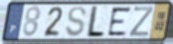2: (43, 6, 64, 38)
8: (22, 5, 43, 39)
E: (107, 6, 133, 38)
L: (84, 5, 106, 39)
S: (64, 5, 88, 38)
Z: (128, 5, 155, 37)
